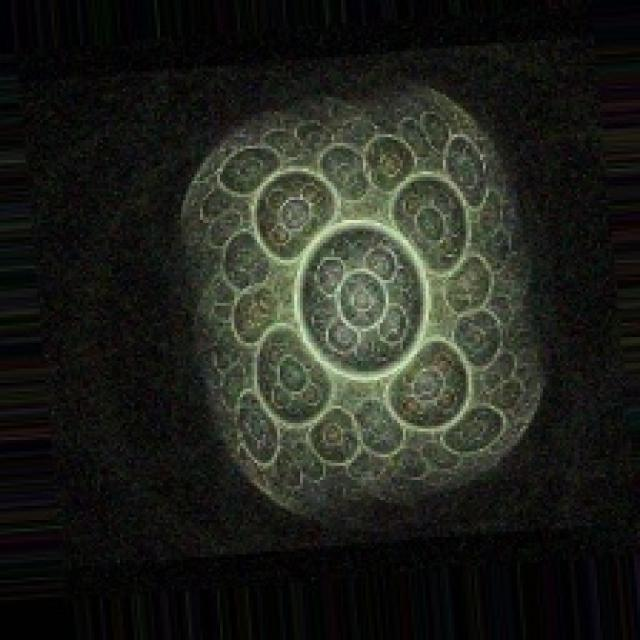Amoeba: (171, 77, 546, 520)
